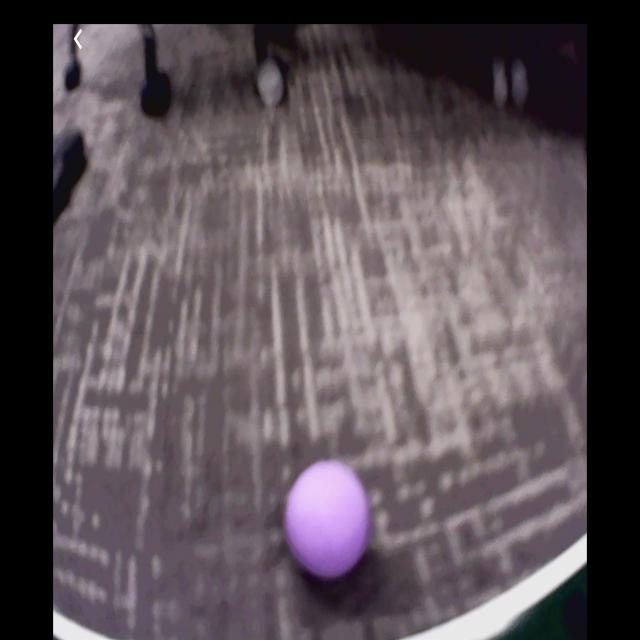ball: (288, 462, 369, 577)
